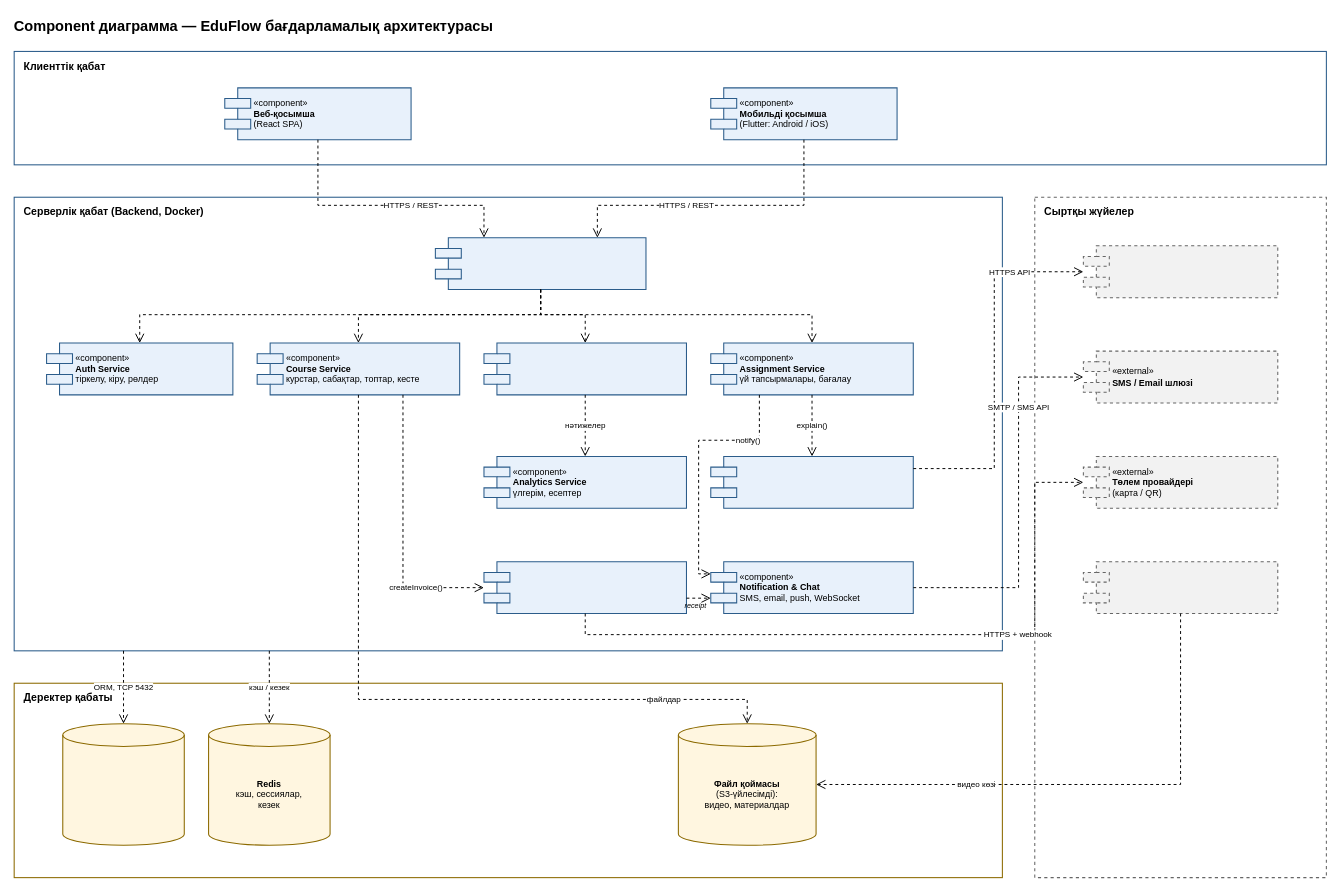
The diagram is 1341 pixels wide and 892 high, and some of its shapes have lost their labels. The shapes that lost their labels are listed below. From the top down, each one's box as (x1, y1, x2, y2) in pixels, then its label:
(434, 237, 646, 290): «component» API Gateway (REST, JWT, rate limit)
(1082, 245, 1278, 298): «external» LLM API (AI түсіндірмелер)
(483, 342, 687, 395): «component» Assessment Service деңгей тесті, автотексеру
(710, 456, 913, 508): «component» AI Adapter промпт, контекст, кэш
(483, 561, 687, 614): «component» Payment Adapter шот, төлем, webhook
(1082, 561, 1278, 614): «external» CDN (видеоны тарату)
(62, 723, 184, 845): PostgreSQL негізгі дерекқор
